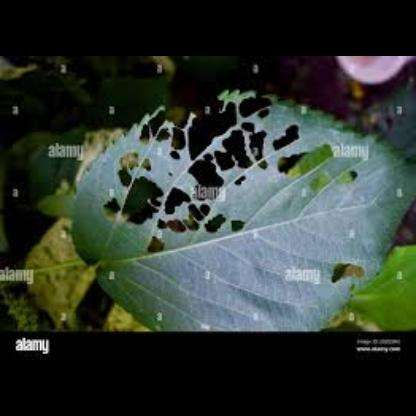agujero: (184, 88, 238, 162), (124, 176, 171, 228), (184, 152, 232, 202), (280, 137, 332, 181), (162, 201, 210, 237), (162, 101, 188, 161), (221, 130, 252, 177), (134, 109, 174, 145), (236, 86, 270, 126), (270, 118, 304, 158), (240, 119, 266, 171), (332, 255, 362, 285), (116, 152, 142, 186), (165, 184, 193, 210), (206, 210, 230, 233), (215, 148, 235, 174), (104, 195, 126, 215), (339, 167, 361, 187), (147, 238, 169, 258), (140, 155, 156, 177), (232, 218, 244, 236), (235, 175, 244, 187)
